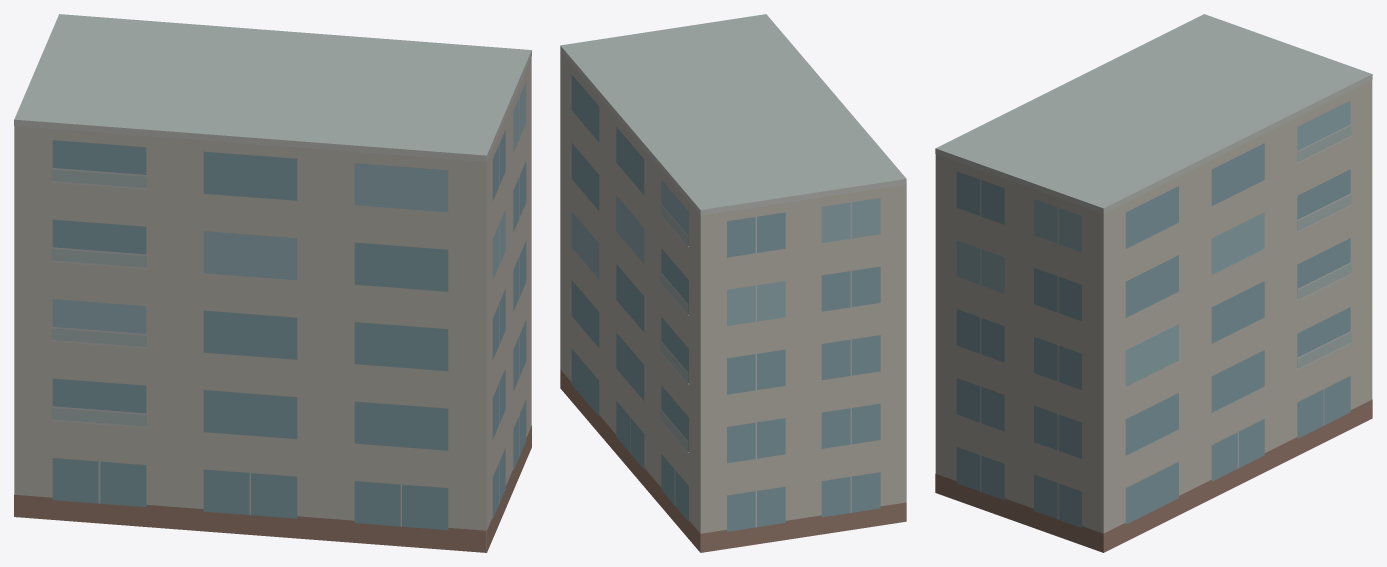
The model's file is survey-upis-32680316.glb.
The picture shows the model from 3 angles, left to right: view 1: azimuth 30°, elevation 25°; view 2: azimuth 150°, elevation 25°; view 3: azimuth 270°, elevation 25°; orthographic projection. The views are drawn at different scales.
Visible parts, largest first — view 1: survey-upis-32680316.tmp; view 2: survey-upis-32680316.tmp; view 3: survey-upis-32680316.tmp.
Boxes of the visible parts, x1=… form: survey-upis-32680316.tmp: x1=14, y1=14, x2=531, y2=552; survey-upis-32680316.tmp: x1=560, y1=14, x2=906, y2=552; survey-upis-32680316.tmp: x1=935, y1=14, x2=1372, y2=552.
Size of the model in its own units: 18.47 by 15.25 by 17.54.
